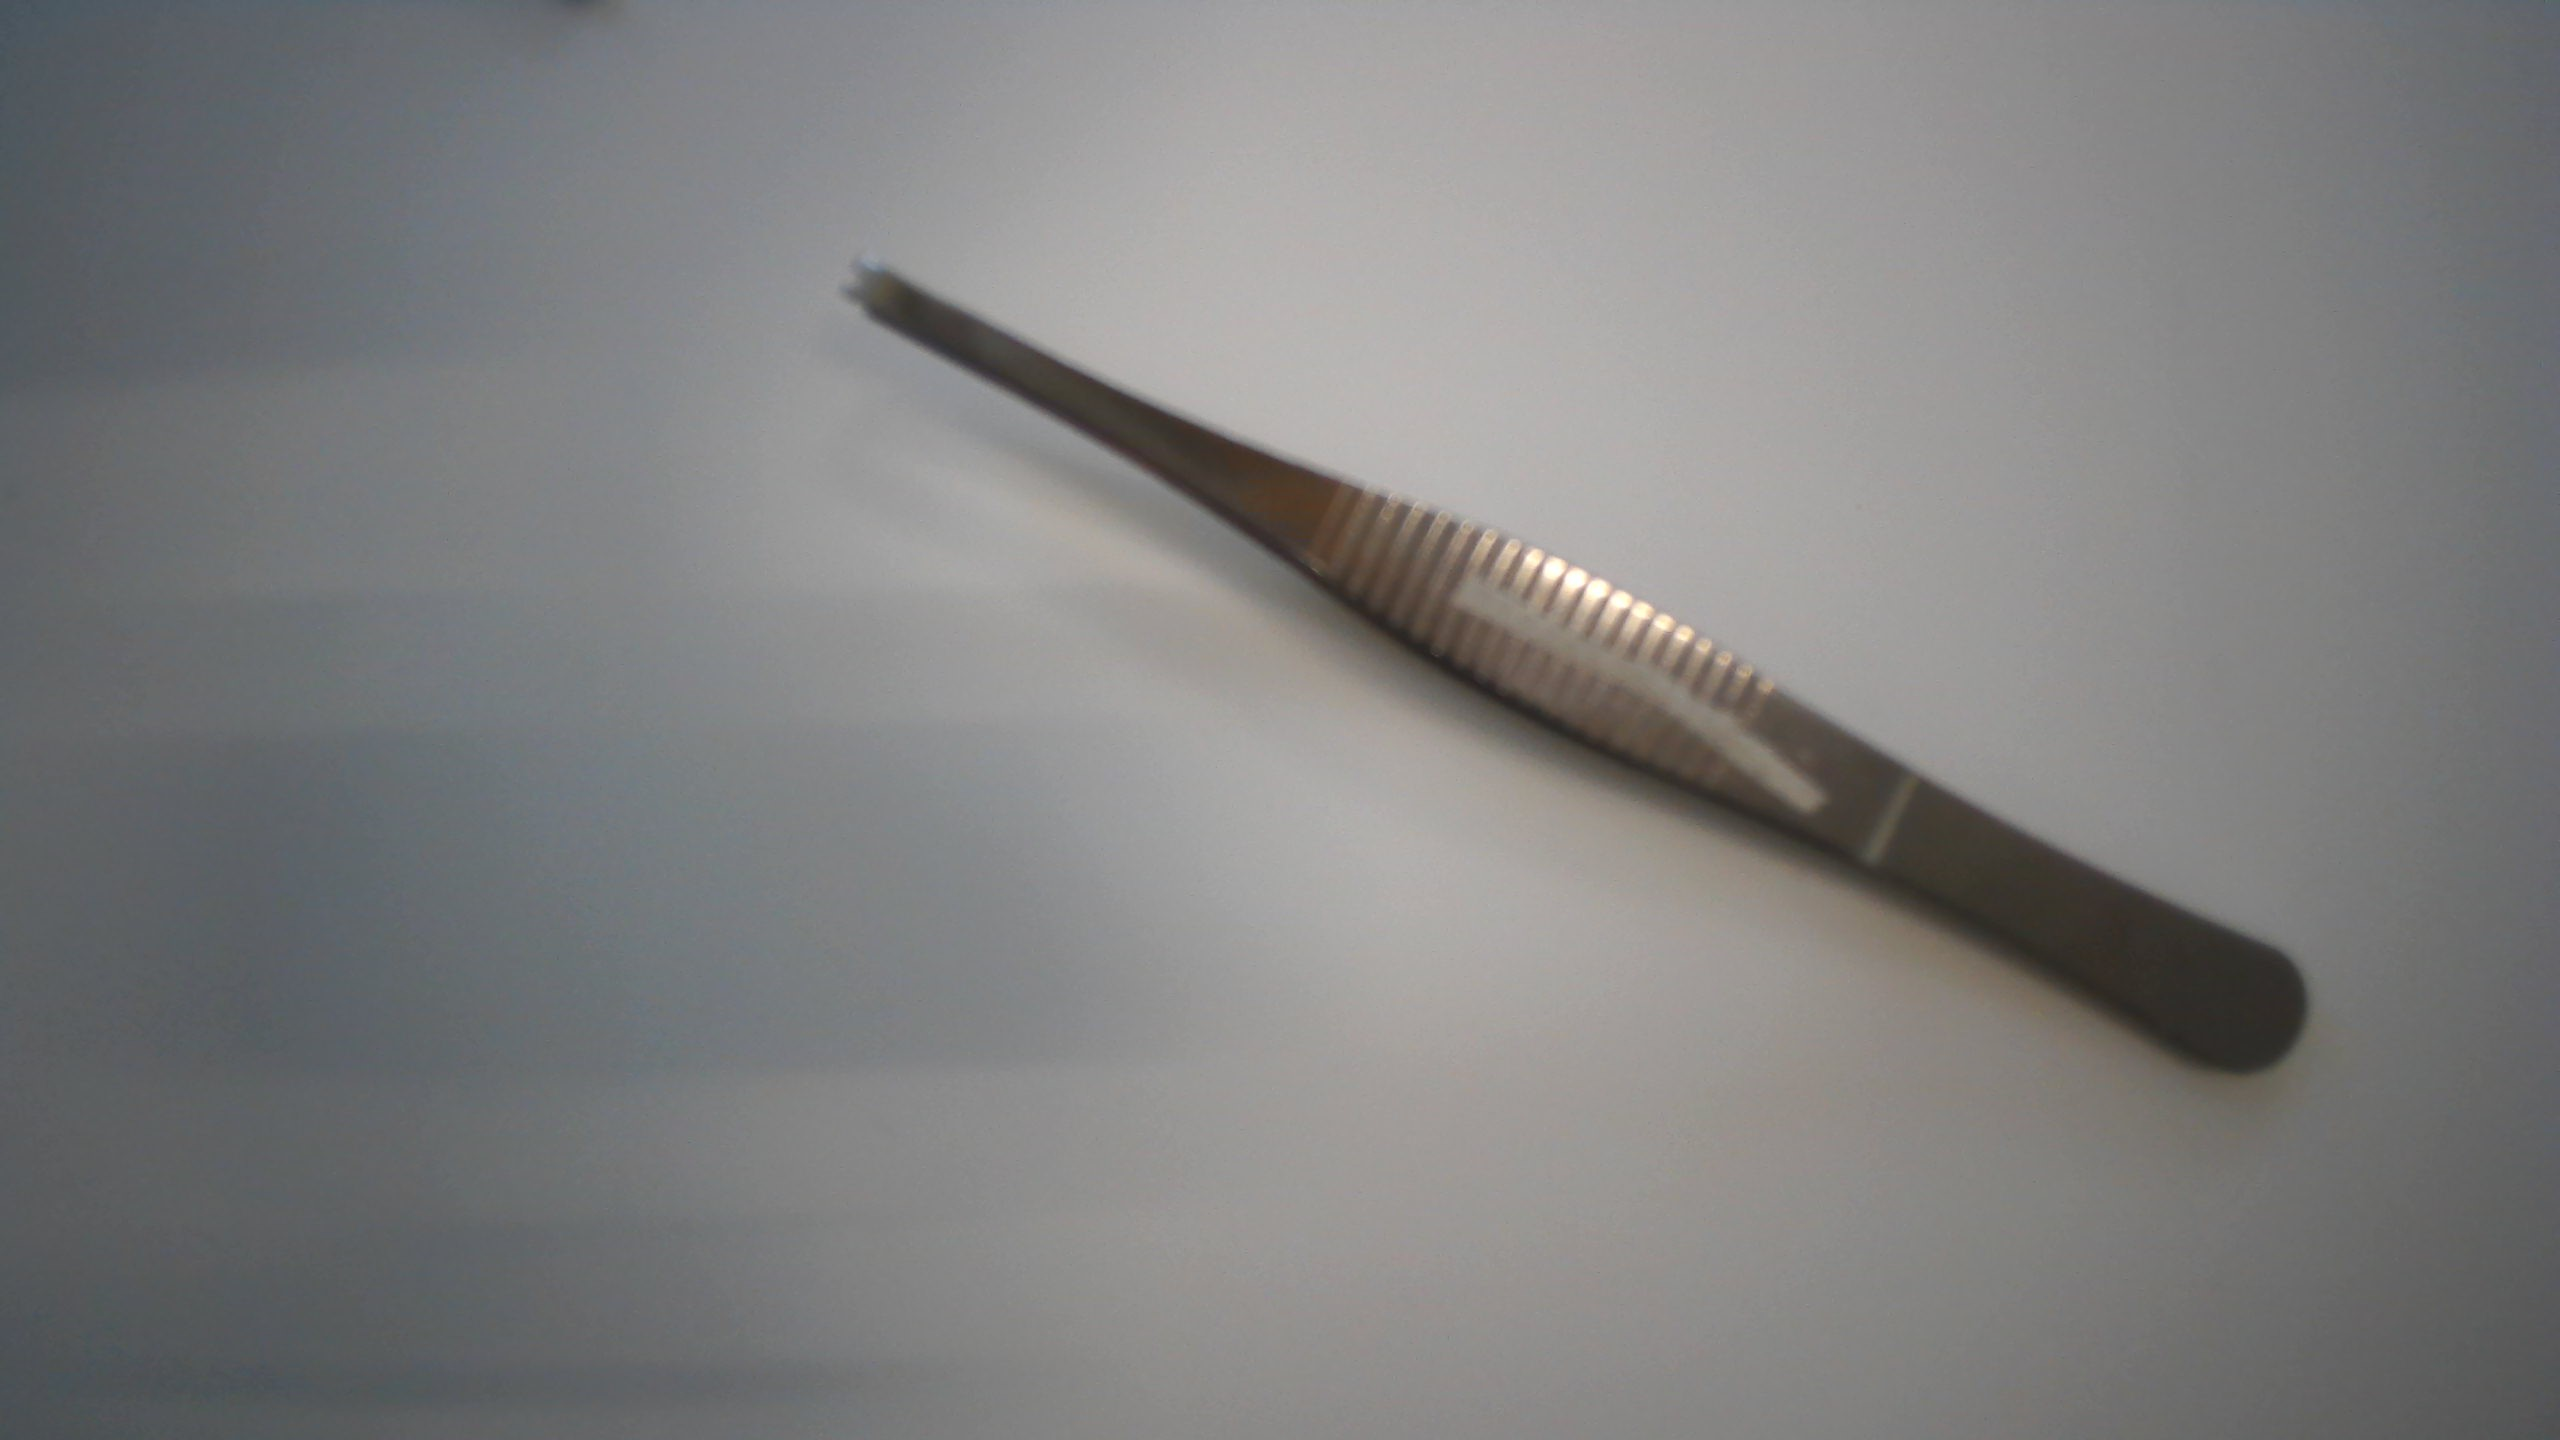Scratches: (1440, 547, 1846, 835)
